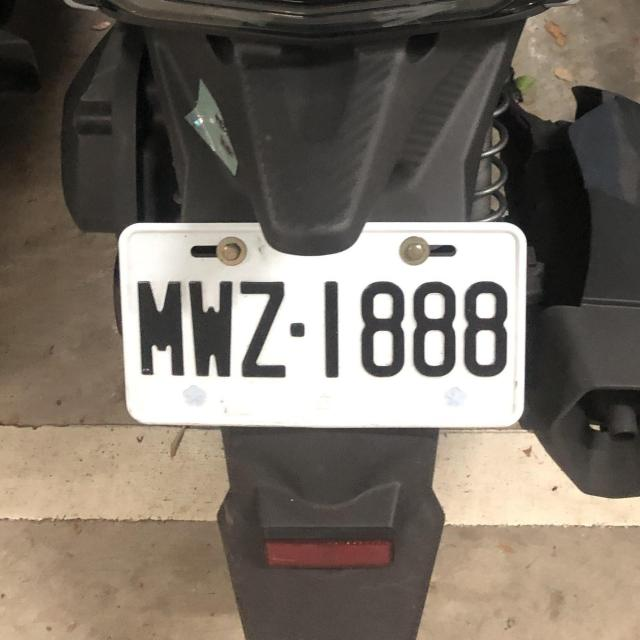W: (109, 213, 537, 446)
